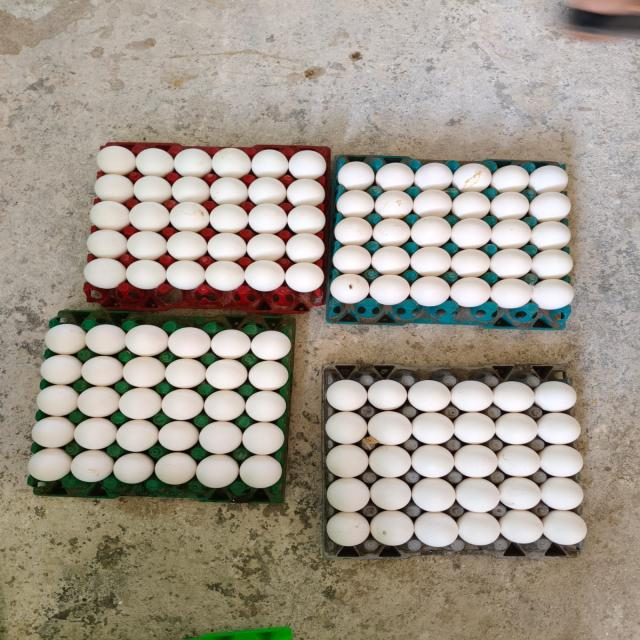egg_tray: (323, 365, 586, 558), (28, 311, 293, 502), (327, 156, 573, 329), (84, 143, 330, 312), (186, 627, 292, 640)
